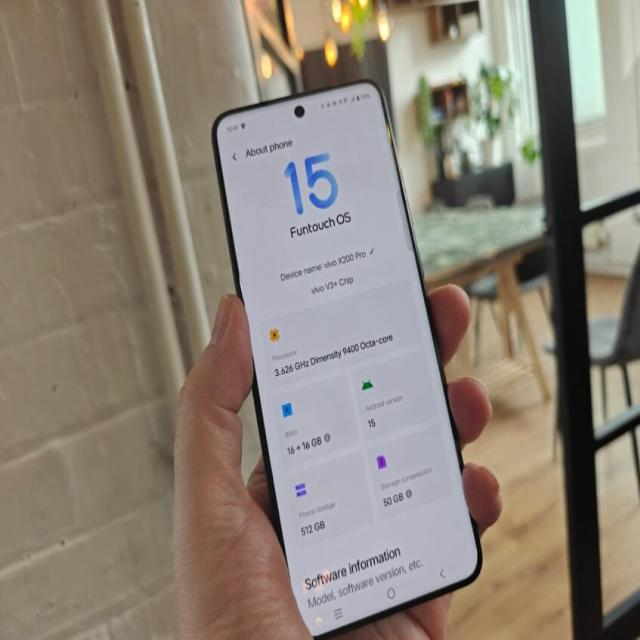mobile_phone: (205, 66, 499, 639)
